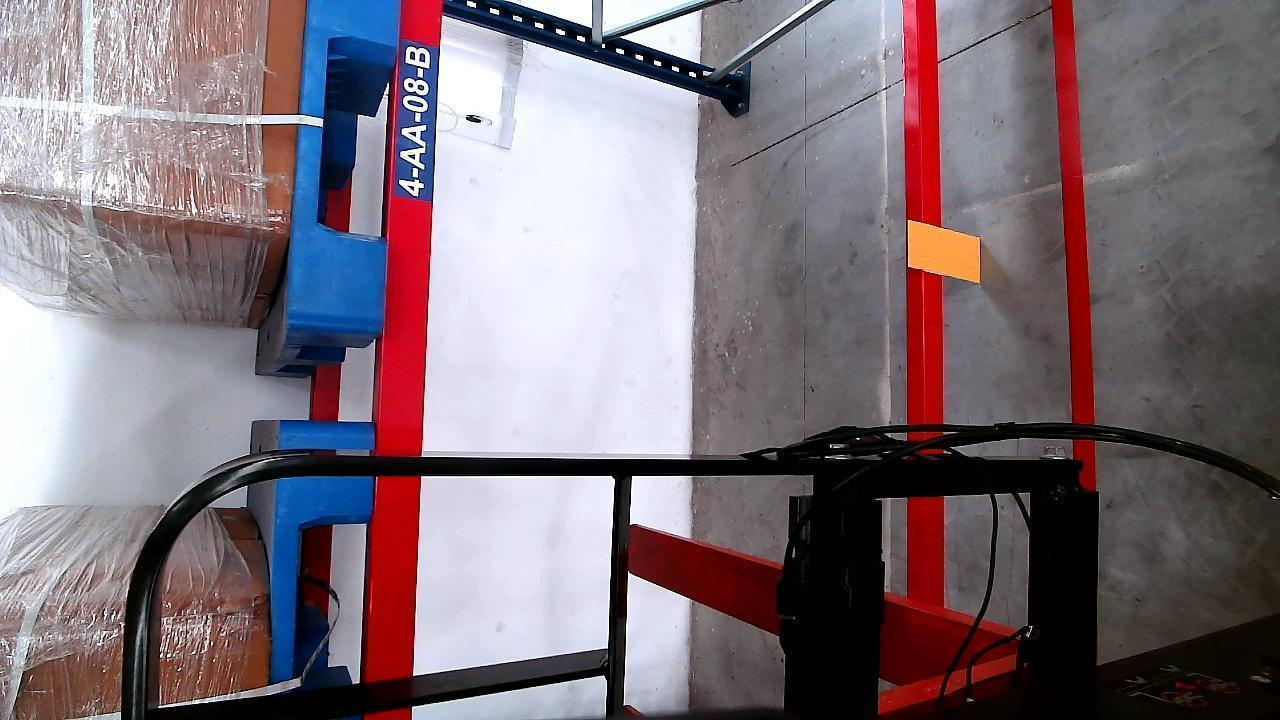red_line: (1054, 0, 1099, 493)
